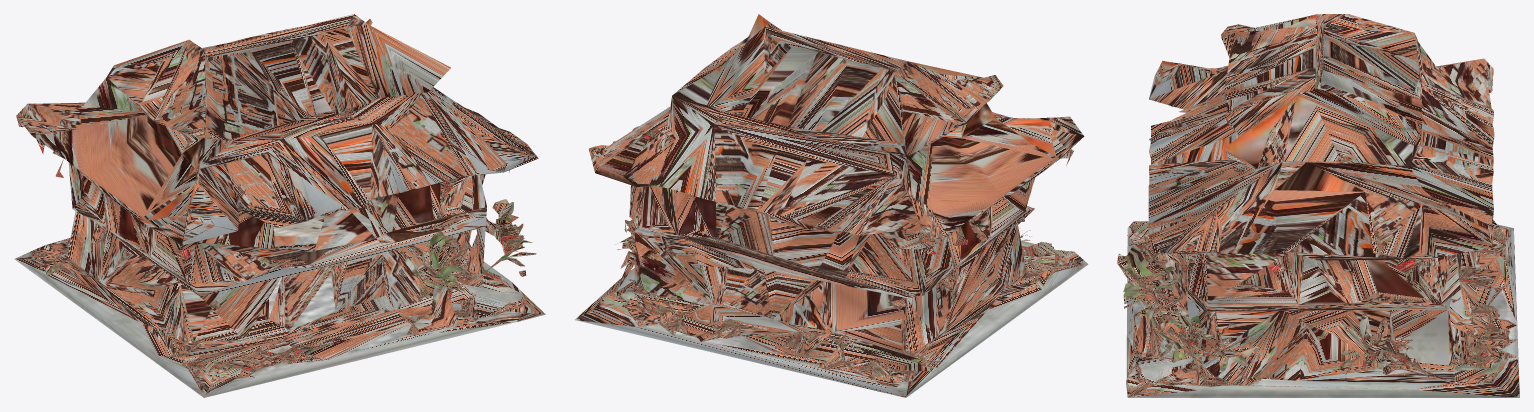
File: bq_yamen.far.glb
The picture shows the model from 3 angles, left to right: view 1: azimuth 30°, elevation 25°; view 2: azimuth 150°, elevation 25°; view 3: azimuth 270°, elevation 25°; orthographic projection. The views are drawn at different scales.
Bounding box in the file's own units: 1.89 × 1.23 × 1.72.
1 material, 1 textured.
